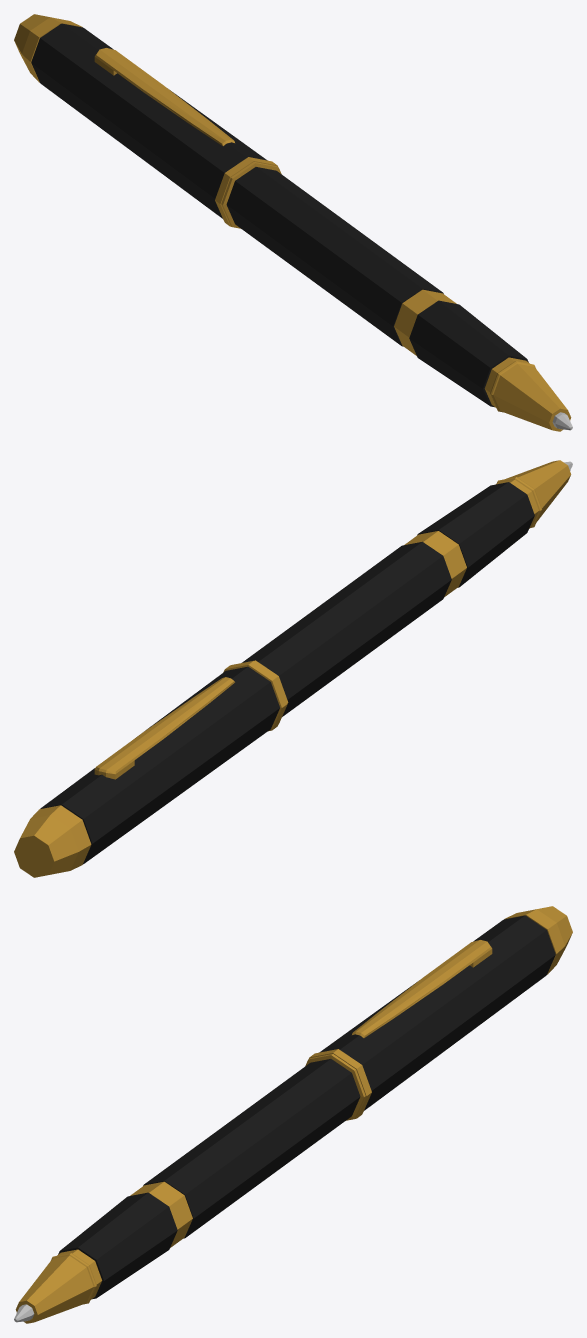
Rendered from apple-pencil-pro.glb.
3 renders of one model, top to bottom at view 1: azimuth 30°, elevation 25°; view 2: azimuth 150°, elevation 25°; view 3: azimuth 330°, elevation 25°, orthographic.
Visible parts, largest first — view 1: Node; view 2: Node; view 3: Node.
Boxes of the visible parts, left/top/right/bottom form: Node: left=14, top=14, right=572, bottom=431; Node: left=14, top=460, right=572, bottom=877; Node: left=14, top=906, right=572, bottom=1323.
Bounding box in the file's own units: 0.3673 × 0.3776 × 5.1.
